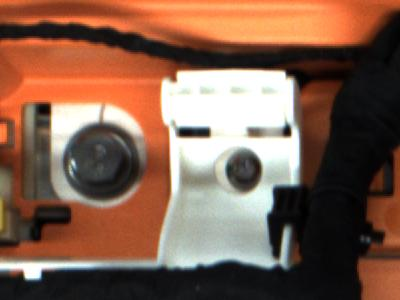nut_b: (58, 123, 146, 201)
